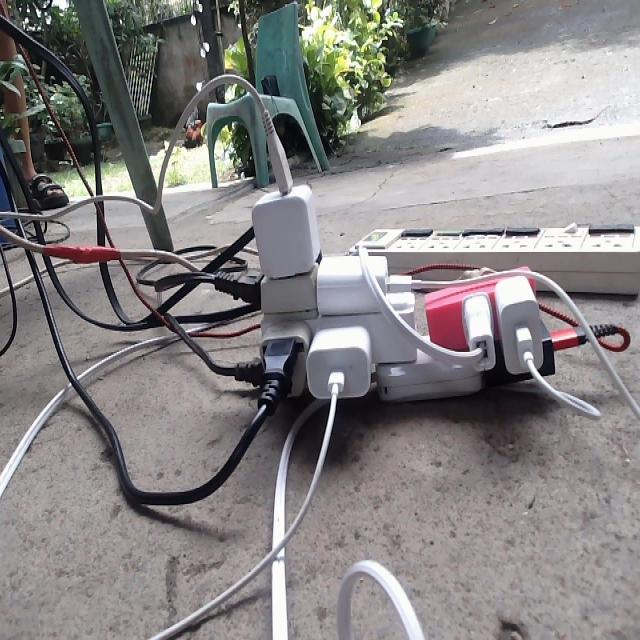-: (208, 110, 587, 418)
